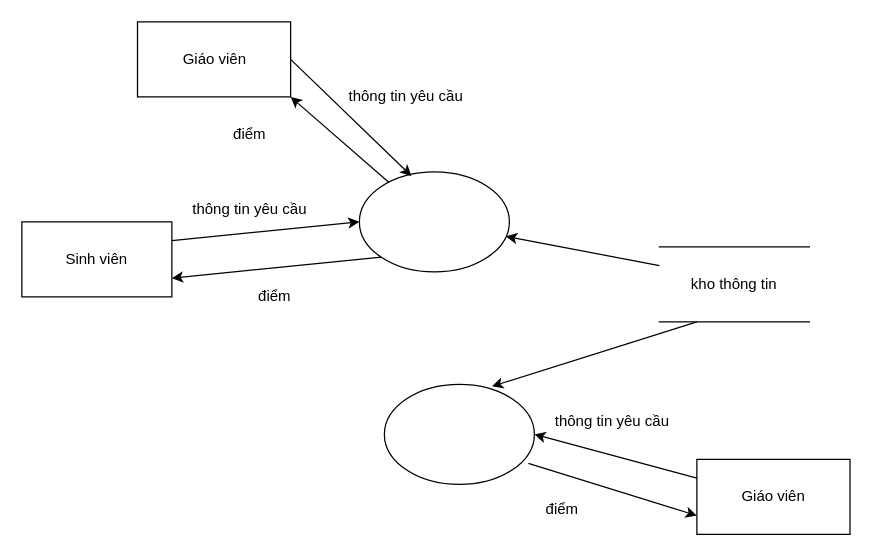
This 873x556 diagram has some shape labels left out. The shapes that lost their labels are listed below. From the top down, each one's centre as x and y in pixels, then its label:
(433,221): Xem điểm sinh viên
(458,433): Xem điểm theo danh sách
